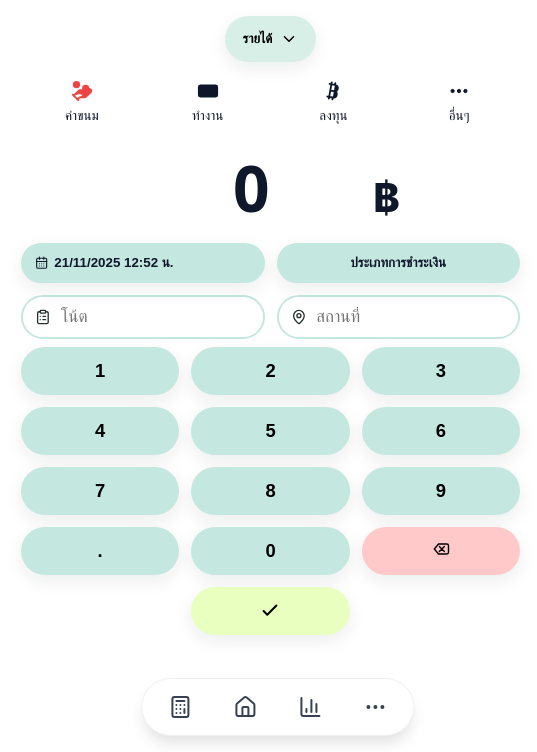
Income Component › should add decimal point when clicking '.' on keypad
What coordinates should you click on to do the following:
click the button "5"
I would click on:
 (270, 431)
Its box is [191,407,350,455].
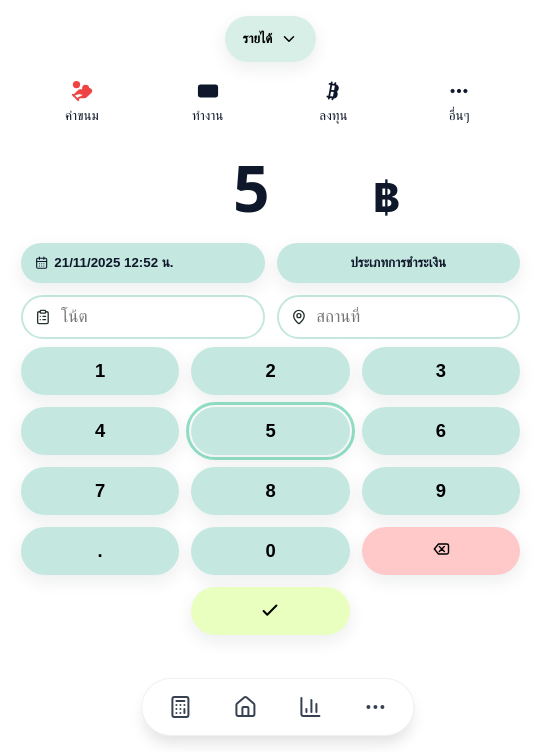
What coordinates should you click on to do the following:
click the button "."
I would click on:
 (100, 551)
Its box is [21,527,179,575].
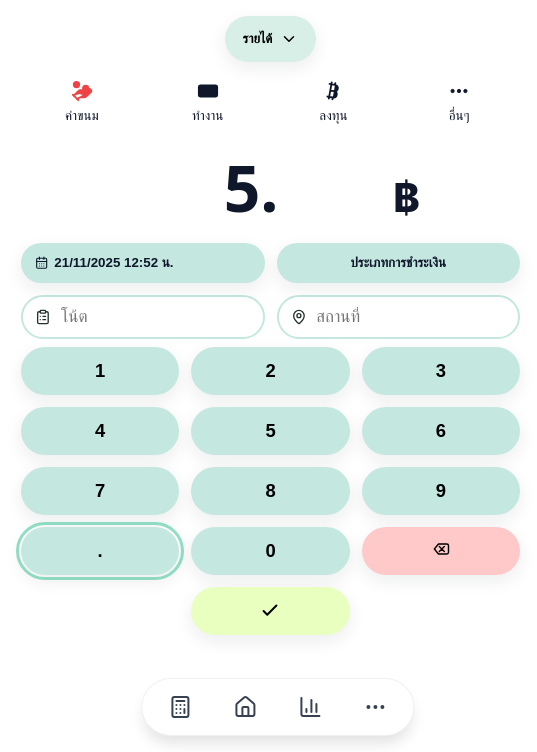
What coordinates should you click on to do the following:
click the button "2"
I would click on:
 (270, 371)
Its box is [191,347,350,395].
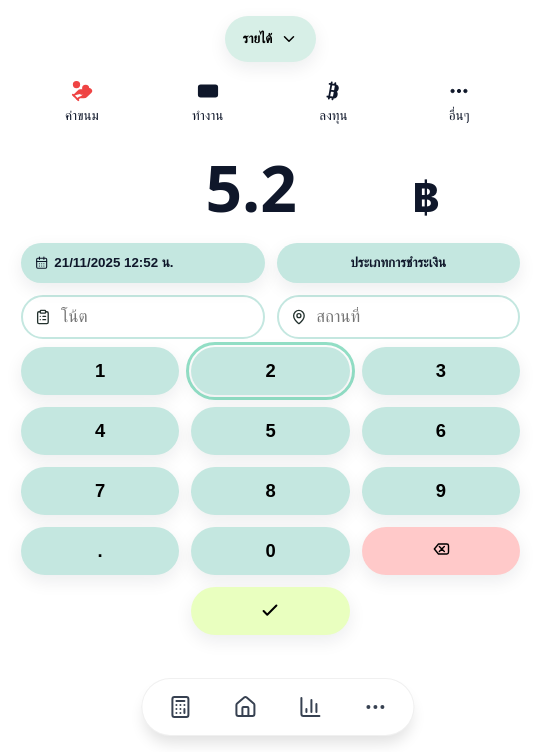
Expected: the field named "จำนวนเงิน" holds "5.2", [102,144,401,231]
